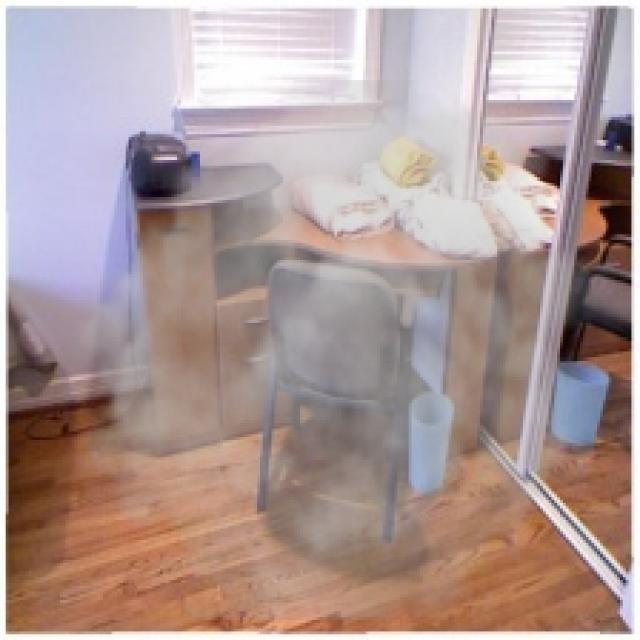Smoke: (57, 80, 614, 620)
